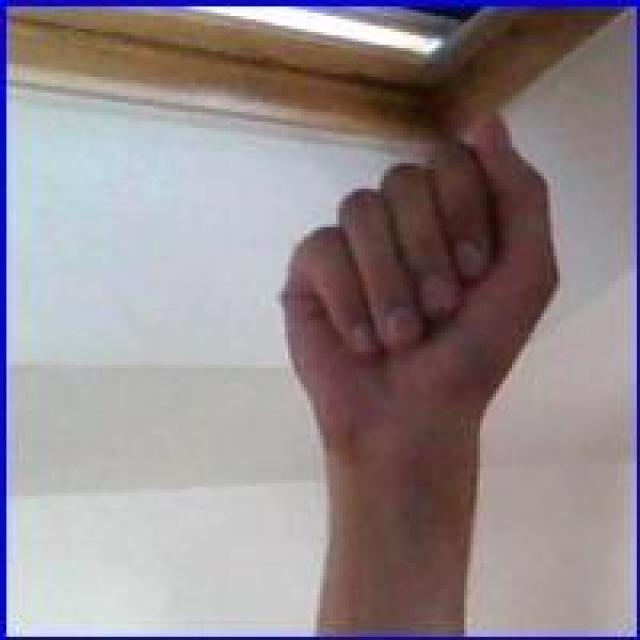A: (275, 109, 560, 464)
